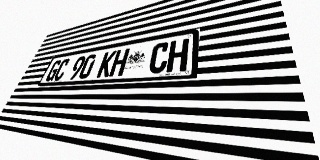0: (77, 54, 97, 79)
9: (67, 55, 87, 80)
C: (147, 41, 170, 74), (52, 58, 71, 81)
G: (44, 60, 63, 82)
H: (166, 38, 189, 73), (109, 48, 130, 77)
K: (96, 50, 117, 78)
